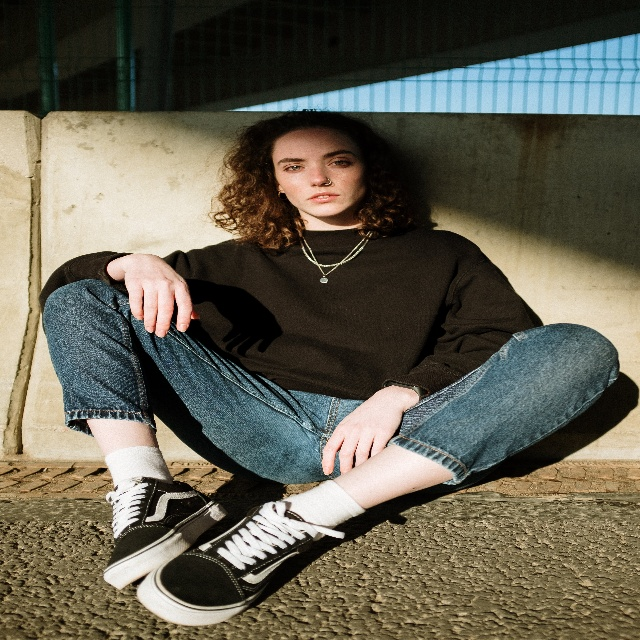Sin_guantes: (321, 387, 403, 476), (124, 254, 200, 339)
